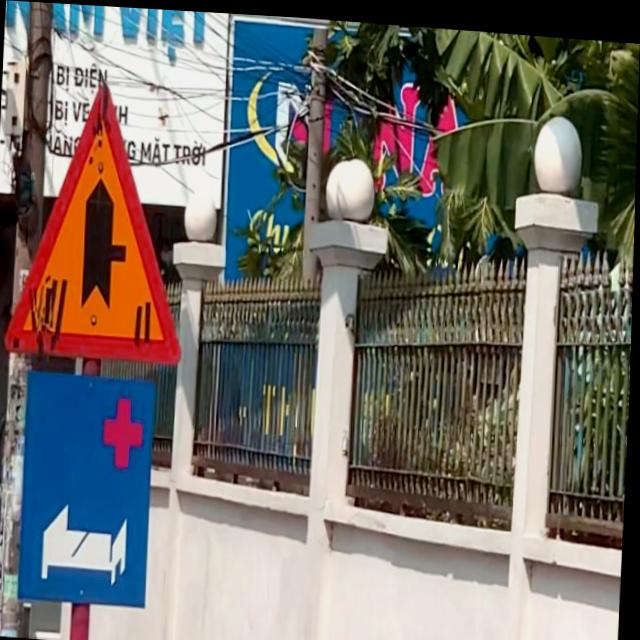Giao nhau voi duong khong uu tien ben phai: (0, 57, 200, 377)
